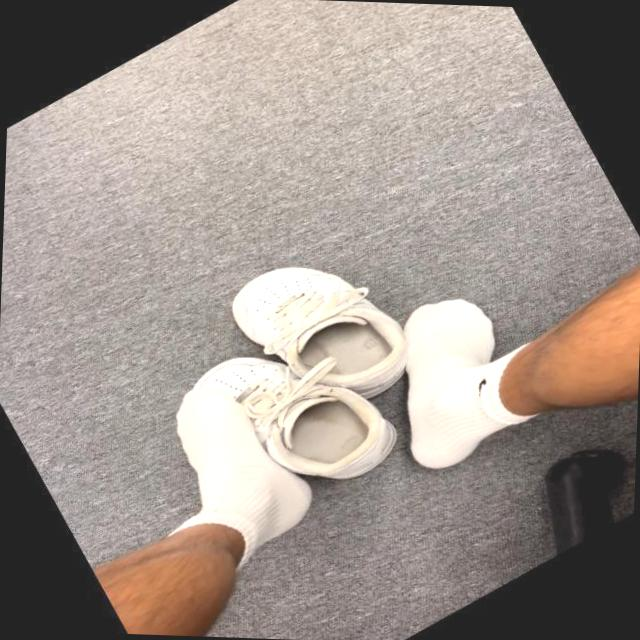nike_original_airforce: (174, 302, 410, 540), (208, 215, 434, 446)
